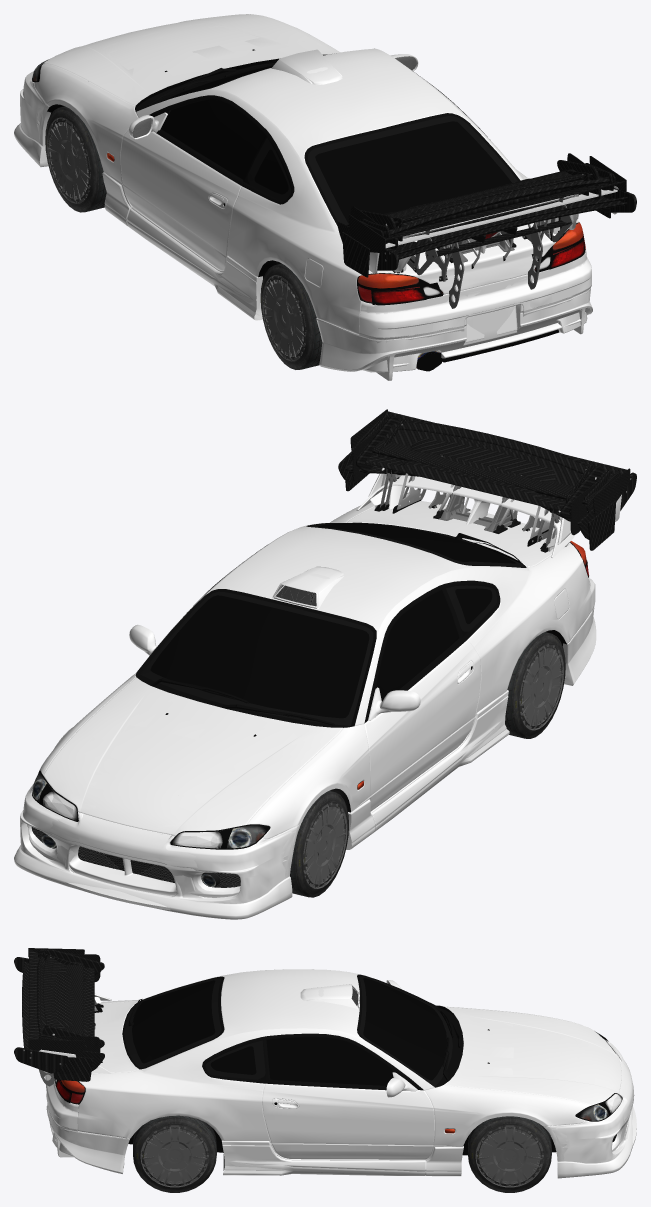
The picture shows the model from 3 angles, top to bottom: view 1: azimuth 30°, elevation 25°; view 2: azimuth 150°, elevation 25°; view 3: azimuth 270°, elevation 25°; orthographic projection. The views are drawn at different scales.
Parts seen in each view (by area): view 1: S15, RearBumper3, Hood, Spoiler5, Hood1, Spoiler3, RearBumper, W1_001, SideSKirt, W1, Spoiler7, SideSKirt2 (+12 smaller); view 2: S15, Hood, FrontBumper3, Hood1, FrontBumper, Spoiler6, FrontBumper1, Spoiler9, Spoiler10, Spoiler7, Spoiler, SideSKirt (+15 smaller); view 3: S15, Hood, Hood1, FrontBumper3, RearBumper3, SideSKirt, W1_002, W1_003, SideSKirt2, Spoiler6, W0_002, W0_003 (+17 smaller).
Part boxes in pixels (box(x1,y1,x2,y2)): S15: box(32, 14, 585, 334); RearBumper3: box(316, 247, 592, 380); Hood: box(43, 14, 336, 105); Spoiler5: box(377, 188, 636, 281); Hood1: box(44, 14, 335, 105); Spoiler3: box(348, 156, 626, 275); RearBumper: box(341, 253, 590, 343); W1_001: box(261, 263, 322, 369); SideSKirt: box(103, 177, 262, 316); W1: box(46, 106, 106, 211); Spoiler7: box(392, 170, 589, 308); SideSKirt2: box(102, 172, 262, 320); S15: box(32, 501, 591, 849); Hood: box(44, 681, 342, 835); FrontBumper3: box(14, 784, 300, 919); Hood1: box(43, 677, 342, 835); FrontBumper: box(27, 788, 300, 897); Spoiler6: box(356, 416, 602, 546); FrontBumper1: box(30, 787, 299, 896); Spoiler9: box(354, 416, 619, 532); Spoiler10: box(361, 415, 613, 538); Spoiler7: box(378, 418, 592, 527); Spoiler: box(356, 475, 574, 558); SideSKirt: box(348, 696, 508, 842); S15: box(59, 969, 621, 1170); Hood: box(447, 1007, 621, 1104); Hood1: box(444, 1007, 621, 1105); FrontBumper3: box(544, 1043, 632, 1178); RearBumper3: box(45, 1074, 129, 1173); SideSKirt: box(222, 1145, 463, 1171); W1_002: box(133, 1115, 216, 1188); W1_003: box(468, 1116, 551, 1188); SideSKirt2: box(221, 1140, 463, 1176); Spoiler6: box(42, 949, 104, 1062); W0_002: box(133, 1116, 216, 1192); W0_003: box(468, 1116, 551, 1192).
Bounding box in the file's own units: 1.5 × 1.02 × 3.63.
Materials: 6 (3 with a texture image).
